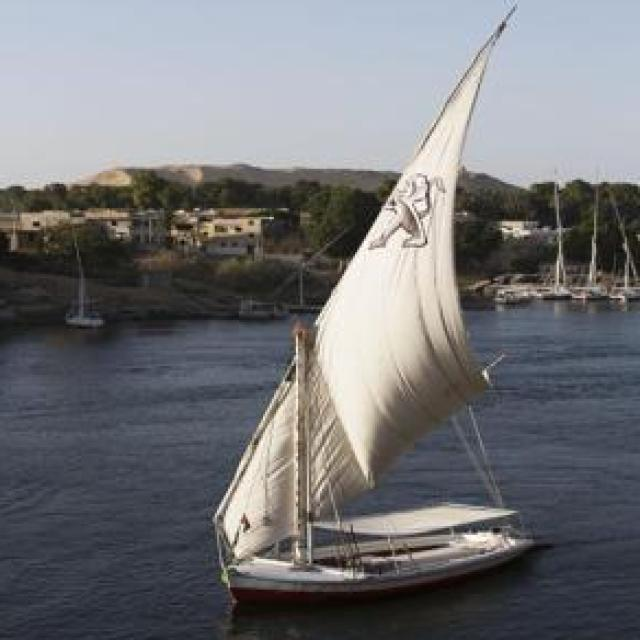sailboat: (212, 0, 537, 598)
